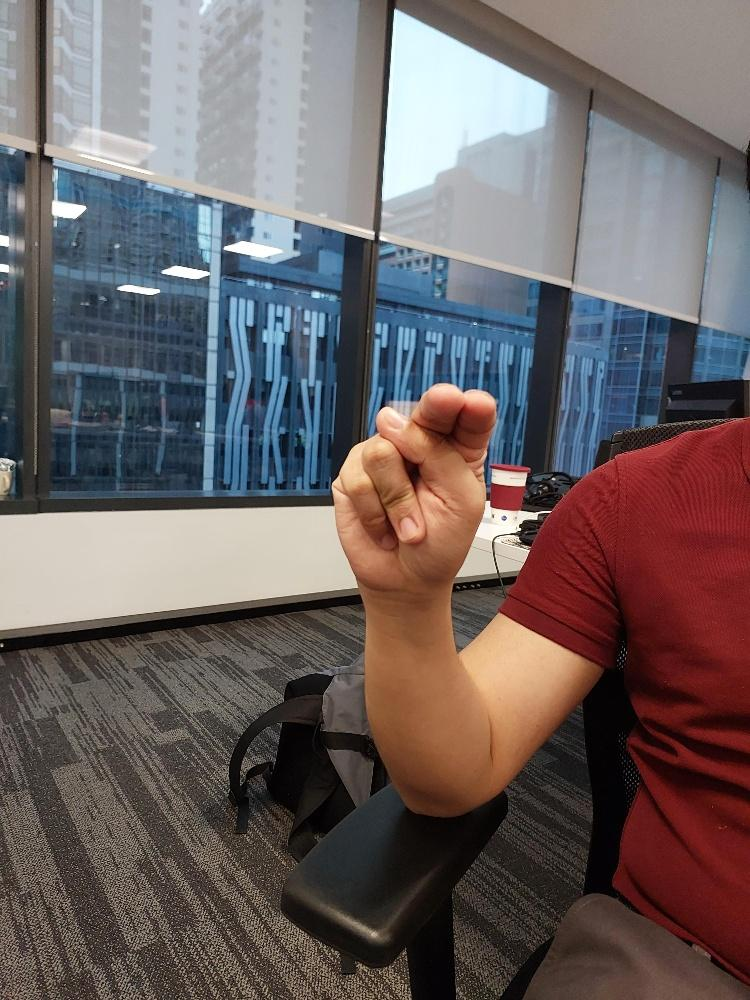n: (328, 379, 500, 599)
